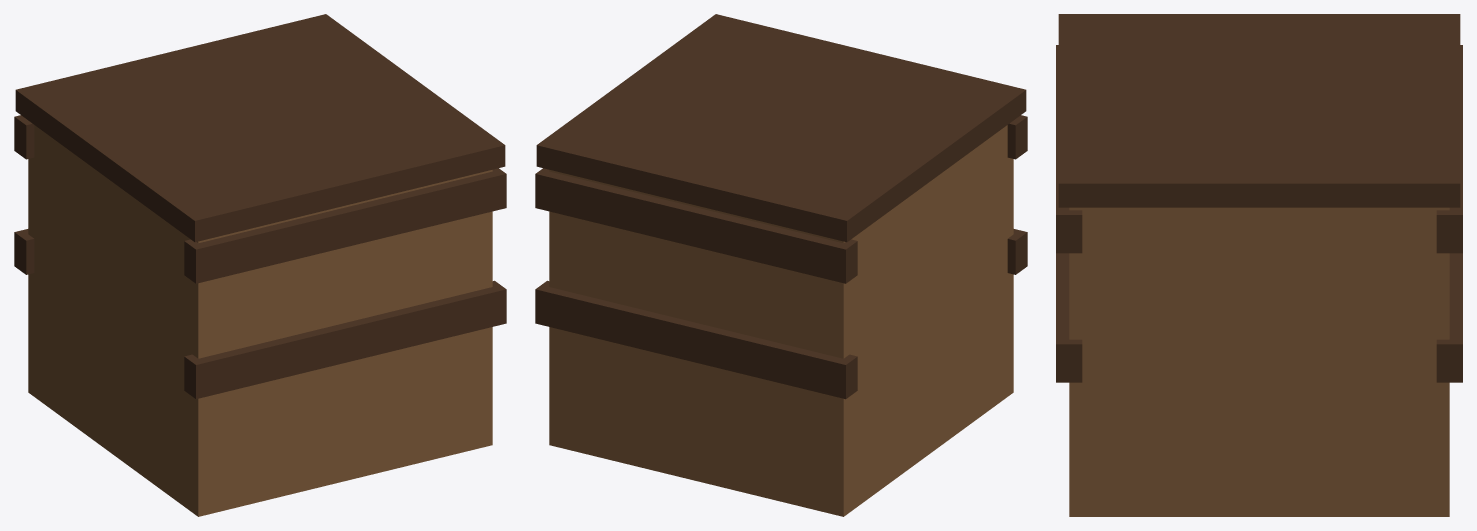
Rendered from prop_crate.glb.
3 renders of one model, left to right at view 1: azimuth 30°, elevation 25°; view 2: azimuth 150°, elevation 25°; view 3: azimuth 270°, elevation 25°, orthographic. The views are drawn at different scales.
Parts seen in each view (by area): view 1: prop_crate; view 2: prop_crate; view 3: prop_crate.
Part boxes in pixels (bbox=[...]): prop_crate: bbox=[14, 14, 506, 516]; prop_crate: bbox=[535, 14, 1027, 516]; prop_crate: bbox=[1056, 14, 1462, 516].
Bounding box in the file's own units: 0.76 × 0.705 × 0.77.
